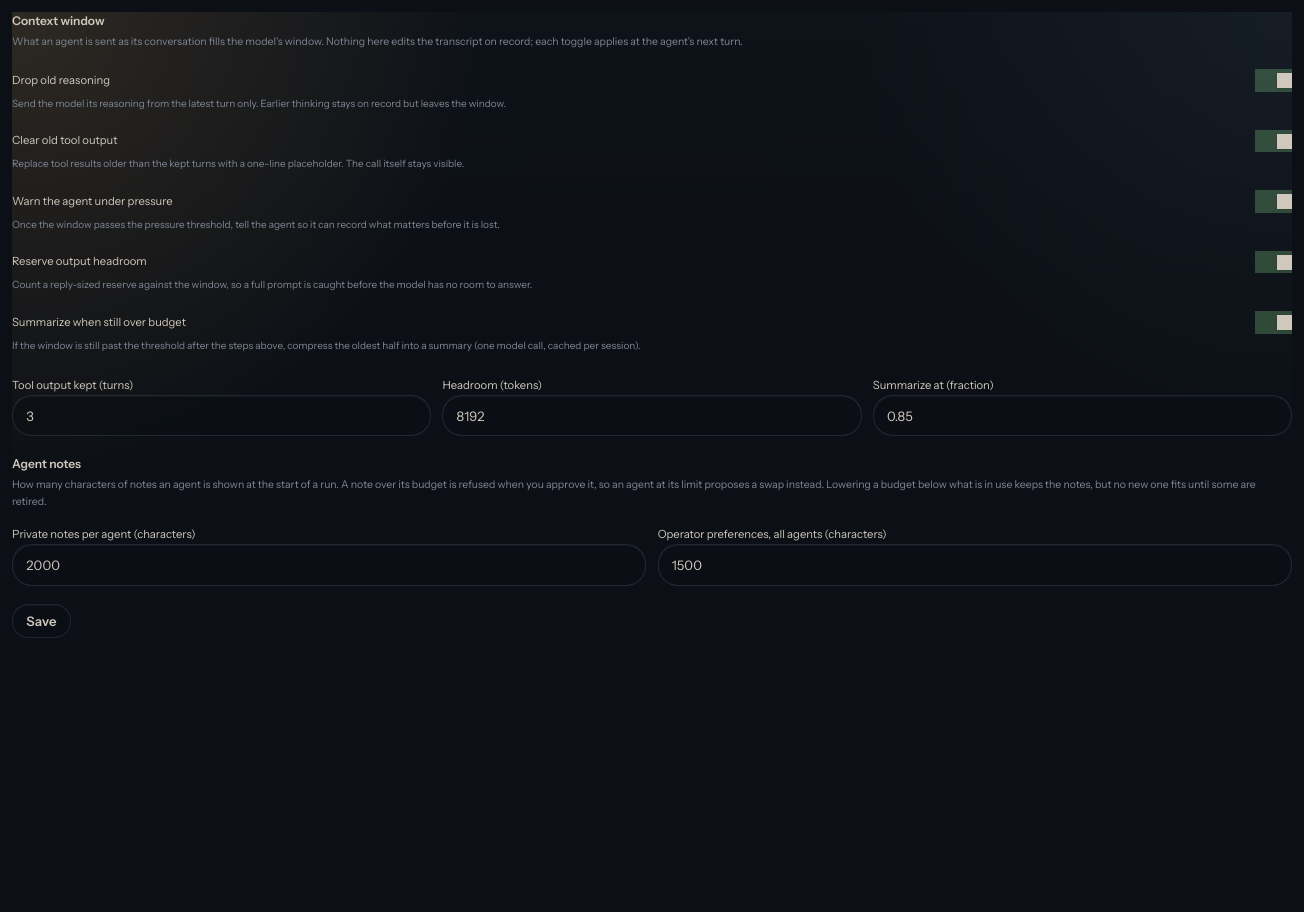
ContextSettings › shows the two note budgets and saves an edited one inside the full PUT
Check: the heading "Agent notes" is shown, box [12,456,81,471]
Check: the number field labelled "Private notes per agent (characters)" is enabled, box [12,544,646,586]
Replace the text in the number field labelled "Operator preferences, all agents (characters)" with "3000" at (975, 565), box [658,544,1292,586]
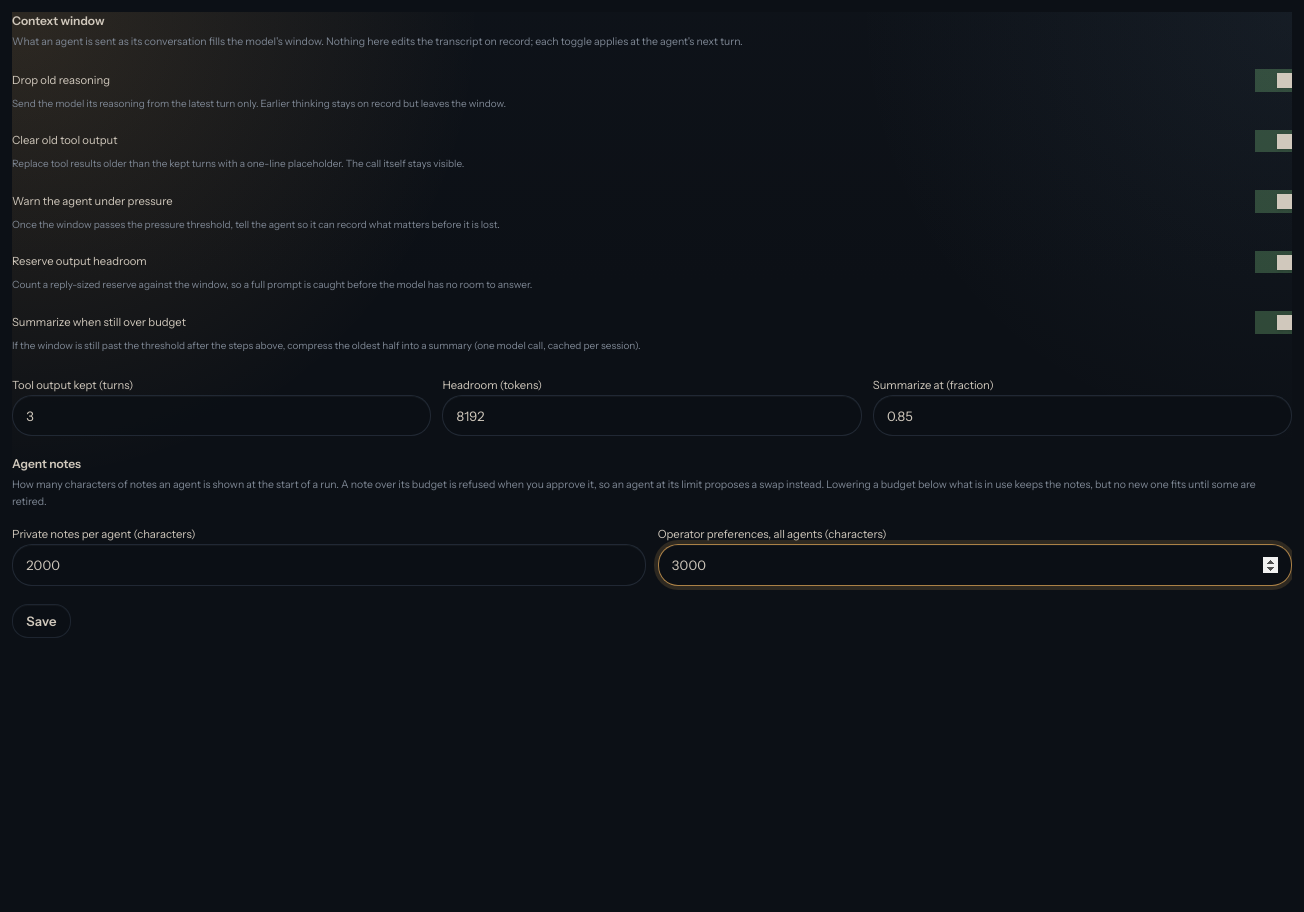
Click the button "Save" at (41, 621), box [12,604,71,638]
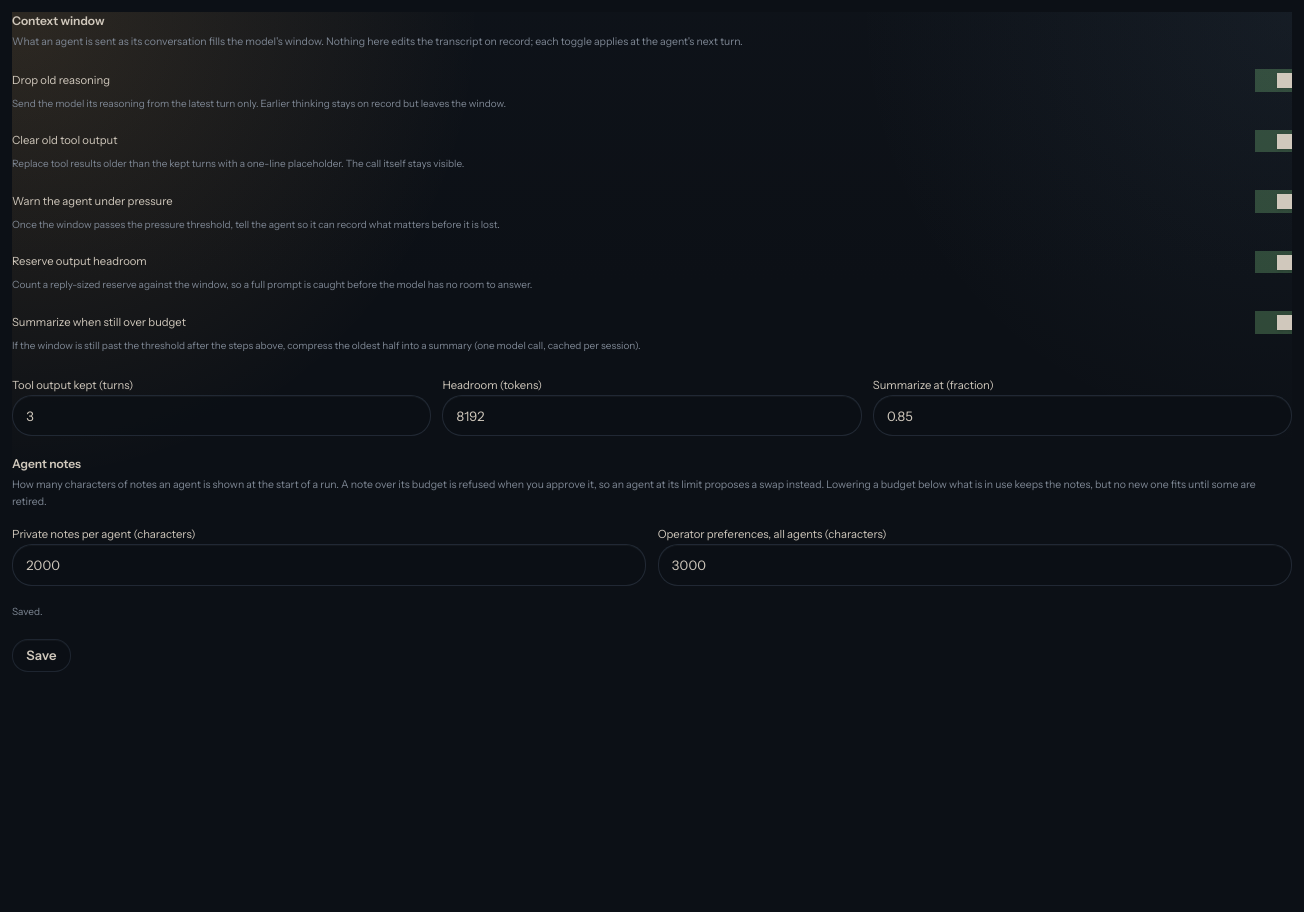
Check: the text "Saved." is shown, box [12,606,42,618]
